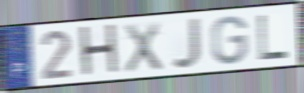2: (39, 28, 73, 81)
G: (211, 14, 249, 66)
H: (77, 22, 121, 80)
J: (170, 16, 202, 71)
L: (256, 13, 290, 62)
X: (123, 20, 165, 75)
